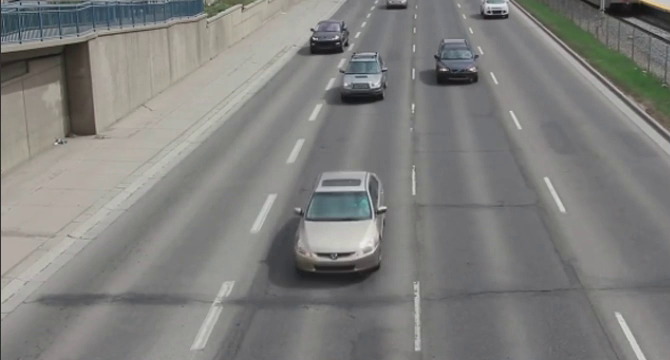car: (290, 168, 390, 279), (432, 38, 481, 89), (341, 49, 388, 100), (306, 19, 349, 55), (480, 1, 515, 20)
